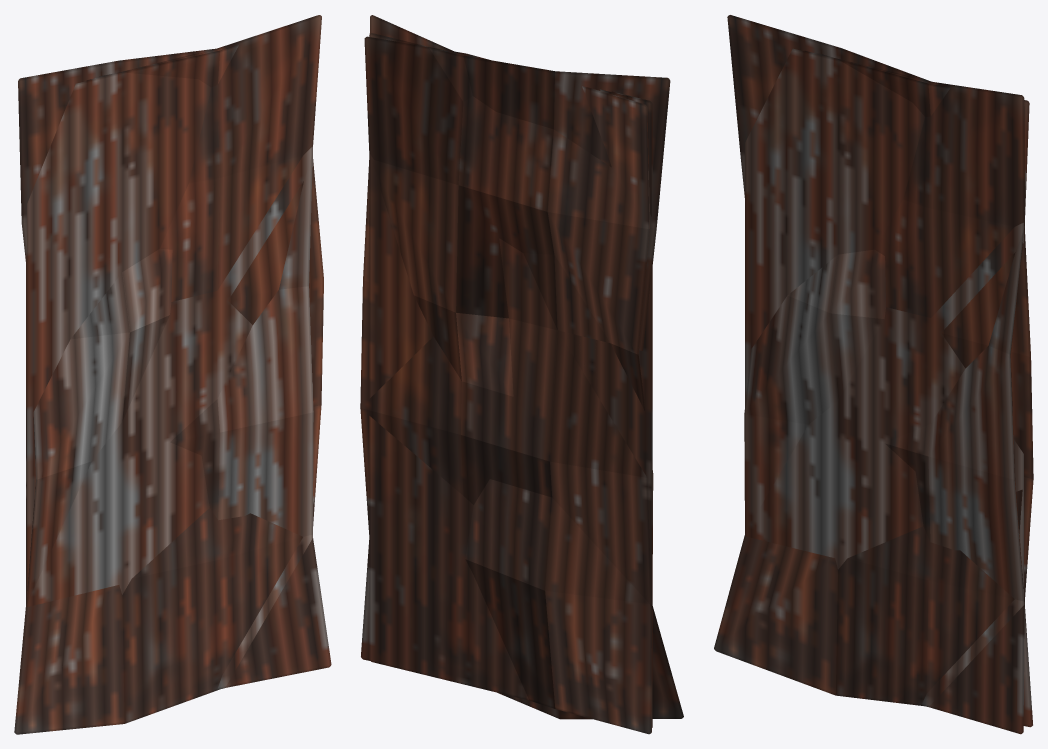
File: Corrugated Metal.fbx
3 views of the same model, side by side, from view 1: azimuth 30°, elevation 25°; view 2: azimuth 150°, elevation 25°; view 3: azimuth 330°, elevation 25° (orthographic). The views are drawn at different scales.
Parts seen in each view (by area): view 1: CorrugatedMetal_Bent_02, CorrugatedMetal_Flat_01, CorrugatedMetal_Bent_01; view 2: CorrugatedMetal_Bent_01, CorrugatedMetal_Bent_02, CorrugatedMetal_Flat_01; view 3: CorrugatedMetal_Bent_02, CorrugatedMetal_Flat_01, CorrugatedMetal_Bent_01.
Part boxes in pixels (x1,y1,x2,y2): CorrugatedMetal_Bent_02: (14, 15, 331, 734); CorrugatedMetal_Flat_01: (26, 48, 312, 607); CorrugatedMetal_Bent_01: (26, 45, 313, 689); CorrugatedMetal_Bent_01: (361, 36, 653, 734); CorrugatedMetal_Bent_02: (360, 15, 683, 719); CorrugatedMetal_Flat_01: (369, 33, 652, 727); CorrugatedMetal_Bent_02: (714, 15, 1033, 734); CorrugatedMetal_Flat_01: (745, 48, 1024, 597); CorrugatedMetal_Bent_01: (744, 52, 1032, 727).
Bounding box in the file's own units: 222 × 450 × 28.44.
Materials: 1 (1 with a texture image).
